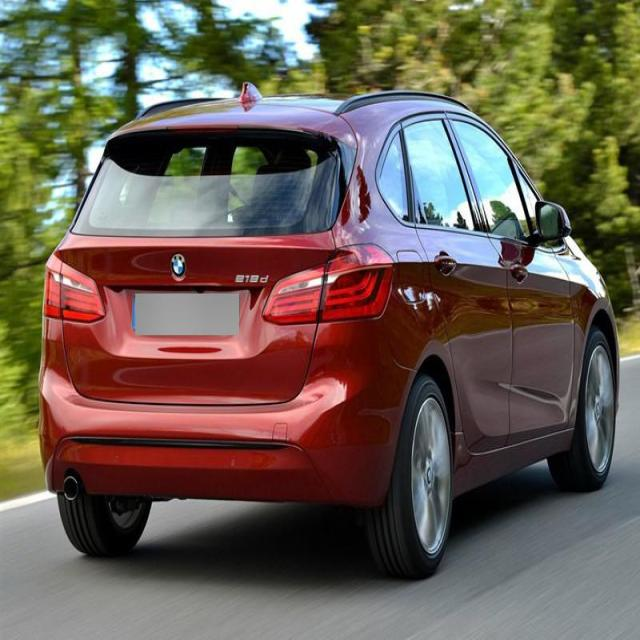back_glass: (67, 128, 358, 235)
back_left_side_light: (41, 250, 107, 330)
back_right_side_light: (260, 242, 395, 328)
door: (402, 114, 517, 472)
front_right_side_mirror: (447, 104, 575, 452), (533, 193, 572, 251)
rear_bumper: (35, 353, 412, 507)
wheel: (369, 377, 452, 581), (547, 327, 619, 483), (58, 490, 154, 552)
